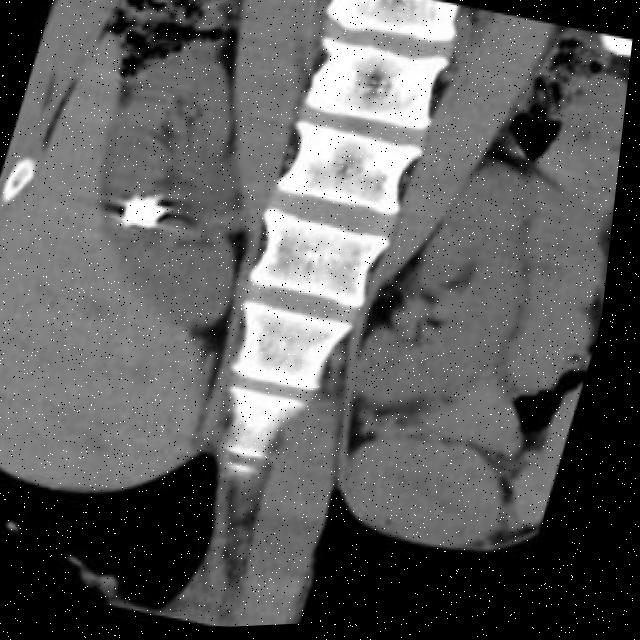Tas_Var: (117, 182, 189, 246)
